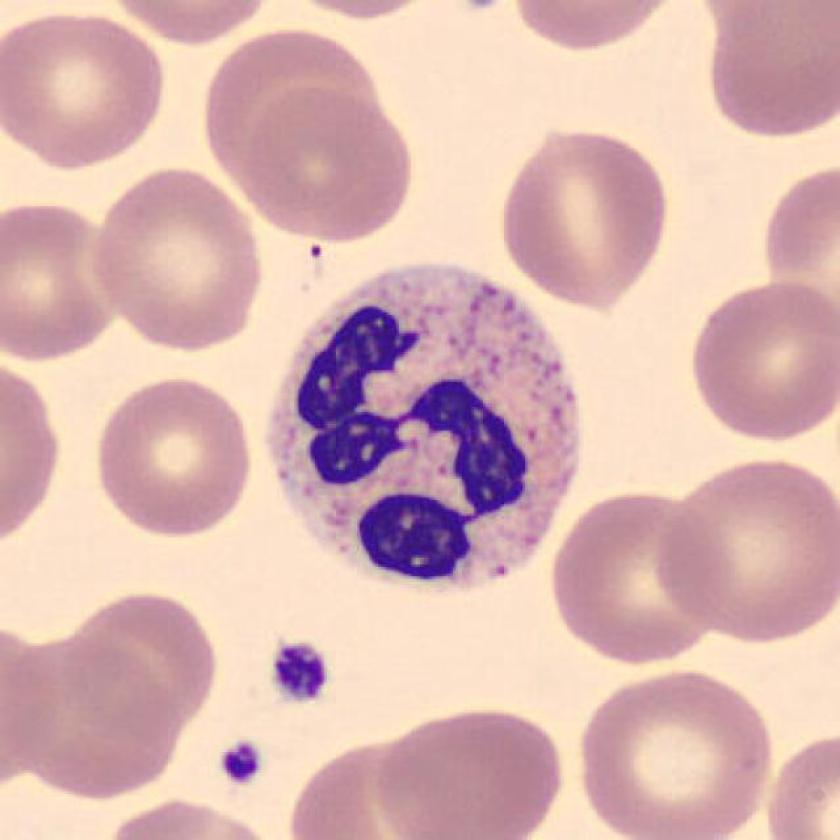neutrophil: (256, 258, 581, 597)
